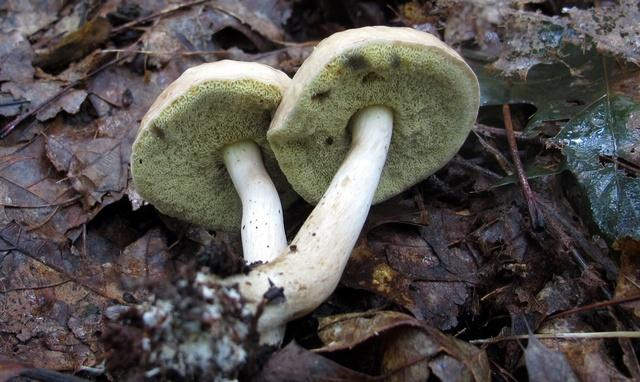Edible Mushroom: (196, 23, 481, 348), (129, 57, 298, 266)
